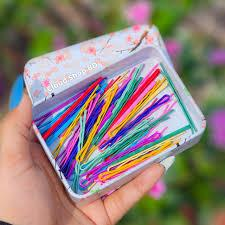bobby pin: (35, 61, 198, 192)
